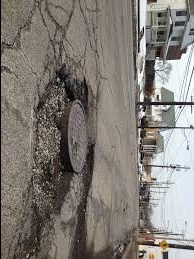pothole: (32, 70, 73, 215), (71, 177, 101, 259), (12, 216, 52, 257), (83, 147, 96, 181), (71, 80, 90, 103)
